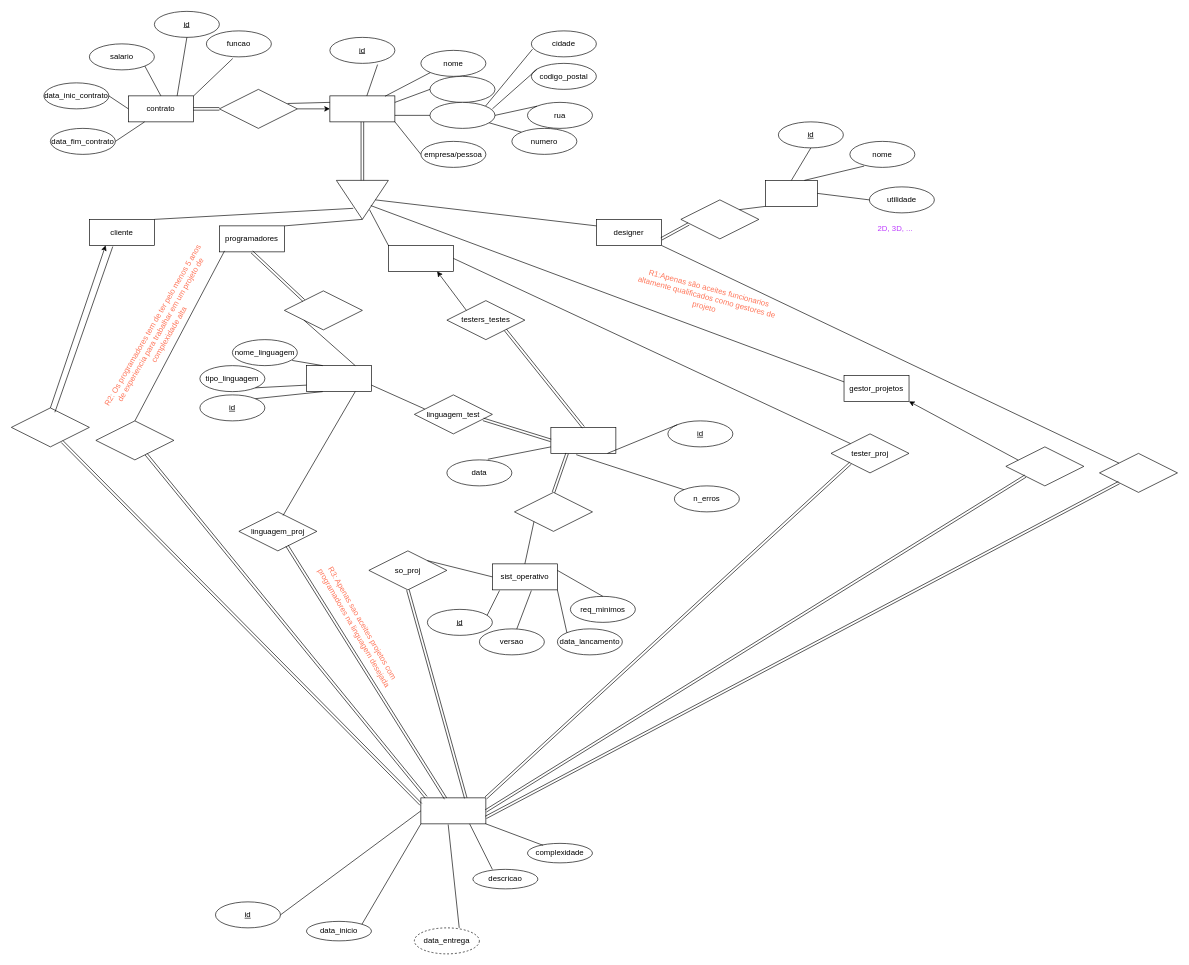
The diagram is 1189 pixels wide and 965 high, and some of its shapes have lost their labels. The shapes that lost their labels are listed below. From the top down, each one's centre as x and y in pixels, then its label:
At point 258,108: "contrato_func".
At point 362,108: "pessoas".
At point 462,89: "qualificacao".
At point 462,115: "morada".
At point 362,199: "ISA".
At point 791,193: "estilo_art".
At point 719,219: "designer_estilo".
At point 420,258: "testers".
At point 323,310: "ling_prog".
At point 338,378: "linguagem".
At point 50,427: "cliente_proj".
At point 134,440: "progr_proj".
At point 583,440: "testes".
At point 1044,466: "gestor_proj".
At point 1138,472: "designer_proj".
At point 553,511: "so_teste".
At point 453,810: "projeto".
